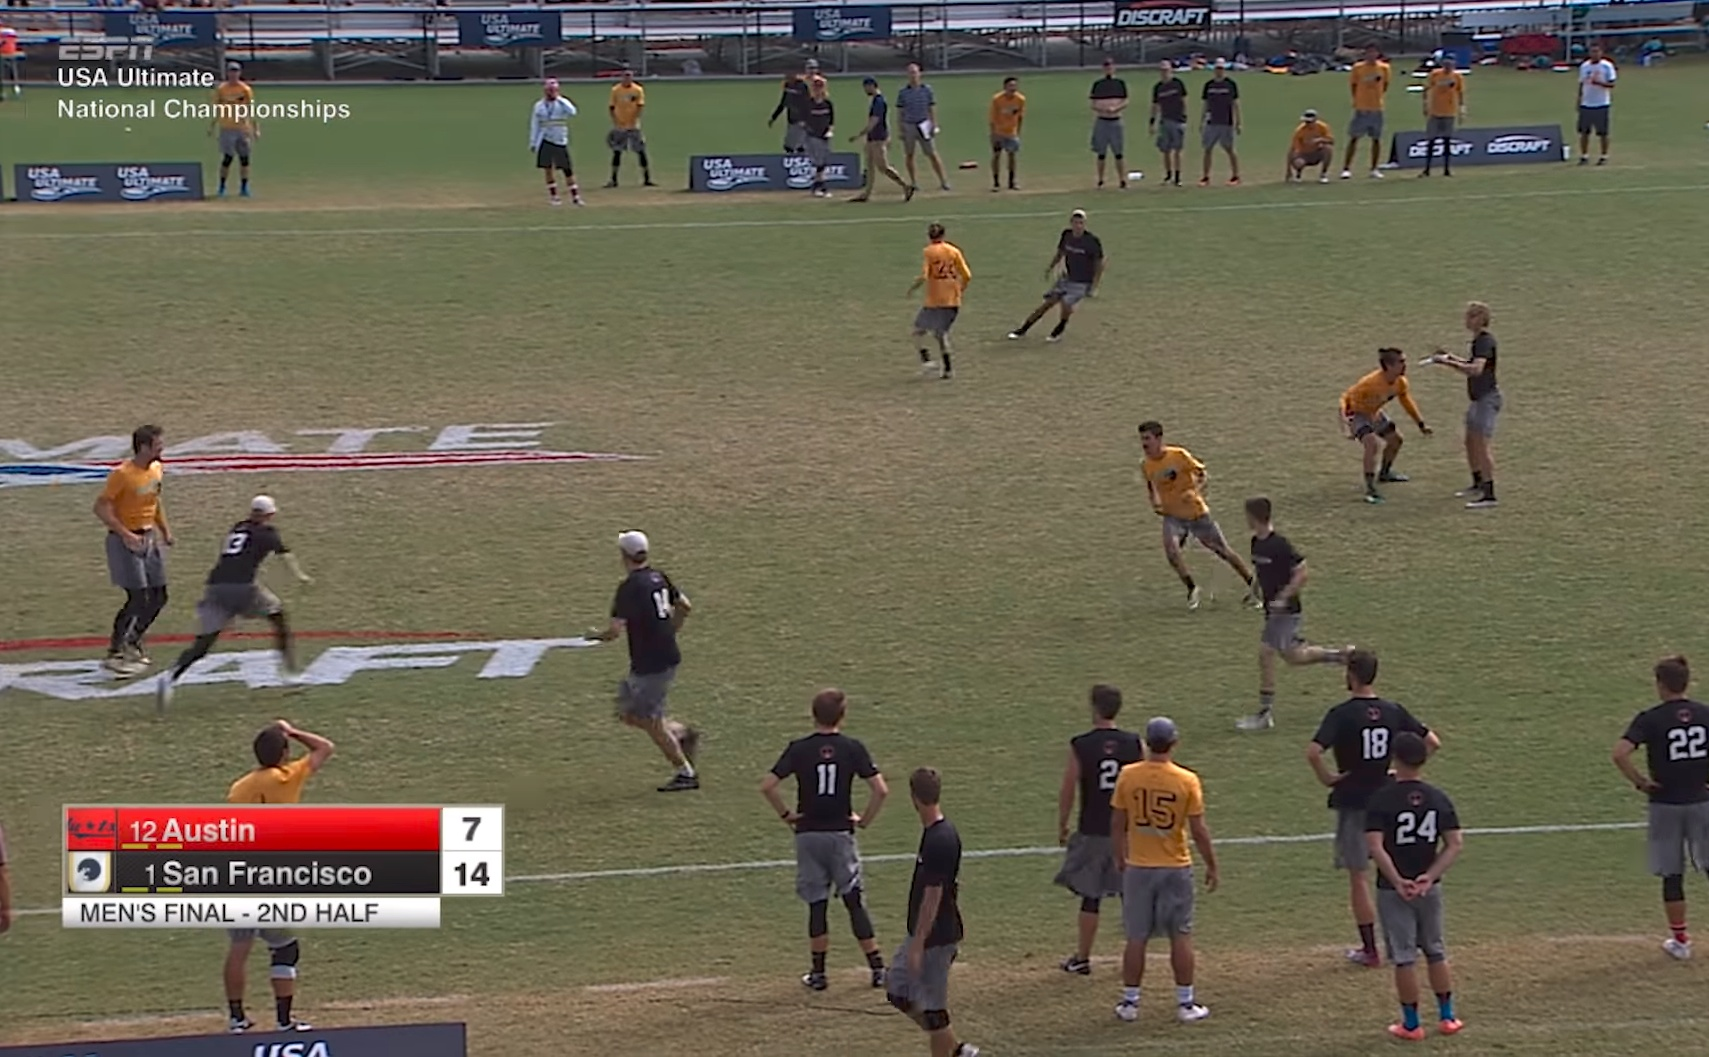frisbee: (1418, 352, 1448, 365), (1405, 84, 1425, 92), (1552, 66, 1571, 71)
